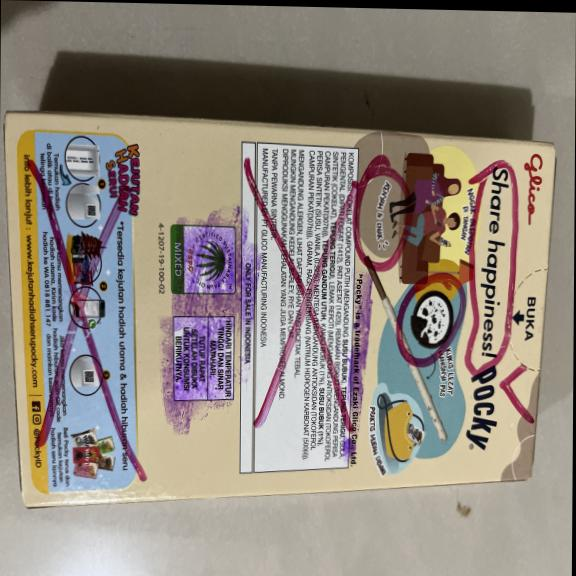Kertas: (11, 121, 557, 521)
